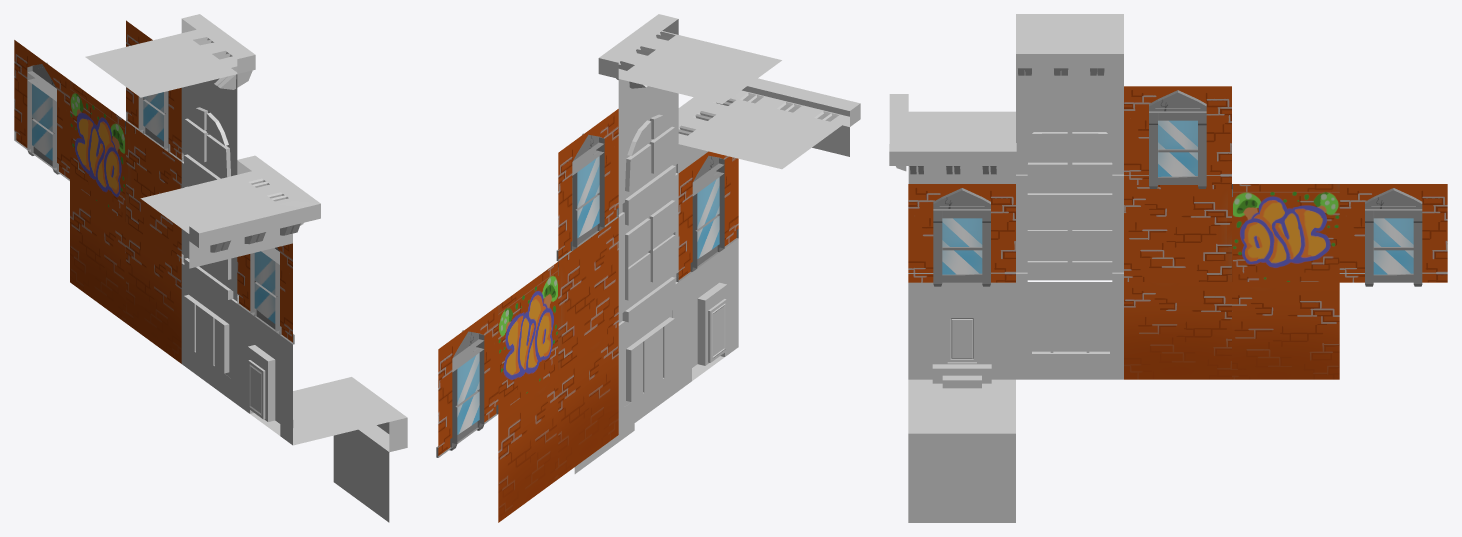
File: prefab.fbx
3 views of the same model, side by side, from view 1: azimuth 30°, elevation 25°; view 2: azimuth 150°, elevation 25°; view 3: azimuth 270°, elevation 25° (orthographic). The views are drawn at different scales.
Parts seen in each view (by area): view 1: Plane.015, Plane.017, Plane.010, Plane.008, Plane.003, Plane.009, Plane.005, Plane, Plane.002, Plane.013, Plane.006, Plane.004 (+3 smaller); view 2: Plane.015, Plane.017, Plane.008, Plane.007, Plane.009, Plane.003, Plane.006, Plane.005, Plane.016, Plane.002, Plane, Plane.013 (+2 smaller); view 3: Plane.002, Plane.008, Plane.007, Plane.004, Plane.016, Plane.010, Plane.009, Plane.003, Plane.005, Plane, Plane.013, Plane.006 (+3 smaller).
Boxes of the visible parts, left/top/right/bottom form: Plane.015: left=140, top=155, right=320, bottom=268; Plane.017: left=85, top=14, right=255, bottom=101; Plane.010: left=333, top=377, right=407, bottom=522; Plane.008: left=14, top=40, right=69, bottom=180; Plane.003: left=70, top=181, right=125, bottom=322; Plane.009: left=126, top=222, right=181, bottom=363; Plane.005: left=70, top=80, right=125, bottom=221; Plane: left=181, top=263, right=237, bottom=404; Plane.002: left=237, top=304, right=293, bottom=445; Plane.013: left=181, top=81, right=237, bottom=182; Plane.006: left=126, top=121, right=181, bottom=262; Plane.004: left=237, top=243, right=294, bottom=344; Plane.015: left=678, top=78, right=860, bottom=173; Plane.017: left=598, top=14, right=781, bottom=107; Plane.008: left=436, top=306, right=498, bottom=457; Plane.007: left=556, top=109, right=618, bottom=261; Plane.009: left=558, top=326, right=618, bottom=478; Plane.003: left=498, top=370, right=558, bottom=522; Plane.006: left=558, top=217, right=618, bottom=369; Plane.005: left=498, top=262, right=558, bottom=413; Plane.016: left=618, top=173, right=678, bottom=325; Plane.002: left=678, top=238, right=738, bottom=390; Plane: left=618, top=282, right=678, bottom=434; Plane.013: left=616, top=86, right=678, bottom=217; Plane.002: left=908, top=282, right=1015, bottom=388; Plane.008: left=1339, top=184, right=1447, bottom=286; Plane.007: left=1124, top=86, right=1231, bottom=188; Plane.004: left=908, top=184, right=1015, bottom=286; Plane.016: left=1016, top=182, right=1123, bottom=282; Plane.010: left=908, top=425, right=1015, bottom=522; Plane.009: left=1124, top=282, right=1231, bottom=379; Plane.003: left=1232, top=282, right=1339, bottom=379; Plane.005: left=1232, top=184, right=1339, bottom=281; Plane: left=1016, top=282, right=1123, bottom=379; Plane.013: left=1016, top=86, right=1123, bottom=184; Plane.006: left=1124, top=185, right=1231, bottom=281.
Bounding box in the file's own units: 226 × 442 × 517.
